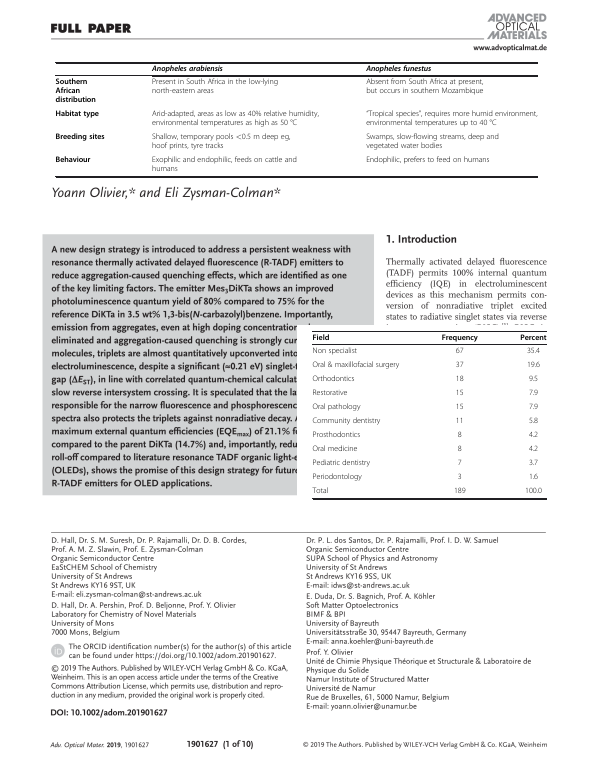borderless: (54, 61, 537, 176), (311, 330, 546, 498)
cell: (365, 110, 538, 129), (151, 110, 320, 129), (151, 156, 298, 175), (151, 133, 291, 152), (365, 133, 500, 152), (151, 78, 279, 97), (365, 78, 484, 97), (365, 156, 490, 166), (54, 78, 97, 106), (312, 361, 400, 371), (312, 417, 381, 427), (151, 65, 224, 74), (365, 65, 432, 74), (312, 459, 371, 469), (54, 133, 106, 143), (312, 473, 363, 483), (312, 403, 361, 413), (312, 431, 361, 441), (54, 110, 100, 120), (312, 347, 358, 357), (312, 445, 358, 455), (312, 375, 355, 385), (54, 156, 91, 166), (312, 389, 348, 399), (441, 334, 479, 343), (519, 334, 547, 343), (524, 487, 543, 497), (312, 487, 329, 497), (312, 334, 330, 343), (526, 347, 541, 357), (526, 361, 541, 371), (453, 487, 466, 497), (528, 375, 539, 385), (528, 389, 539, 399), (528, 403, 539, 413), (528, 417, 539, 427), (528, 431, 539, 441), (528, 445, 539, 455), (528, 459, 539, 469), (528, 473, 539, 483), (455, 347, 464, 357), (455, 361, 464, 371), (455, 375, 464, 385), (455, 389, 464, 399), (455, 403, 464, 413), (455, 417, 464, 427), (457, 431, 463, 441), (457, 445, 463, 455), (457, 459, 463, 469), (457, 473, 463, 483)
